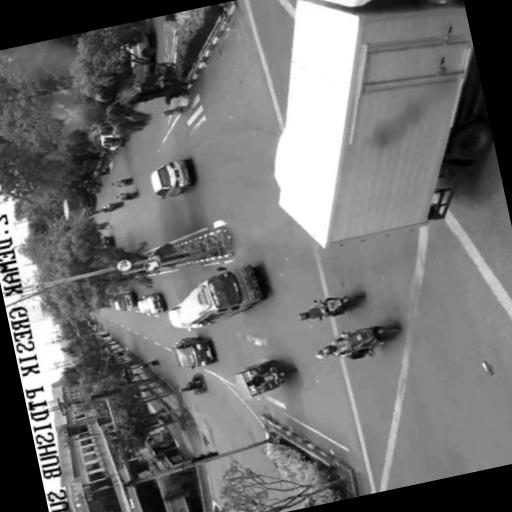bus: (174, 262, 272, 328)
car: (149, 154, 194, 200)
motorcycle: (344, 317, 404, 358), (316, 284, 368, 322), (257, 361, 296, 390)
truck: (235, 0, 506, 255), (176, 336, 219, 370)
